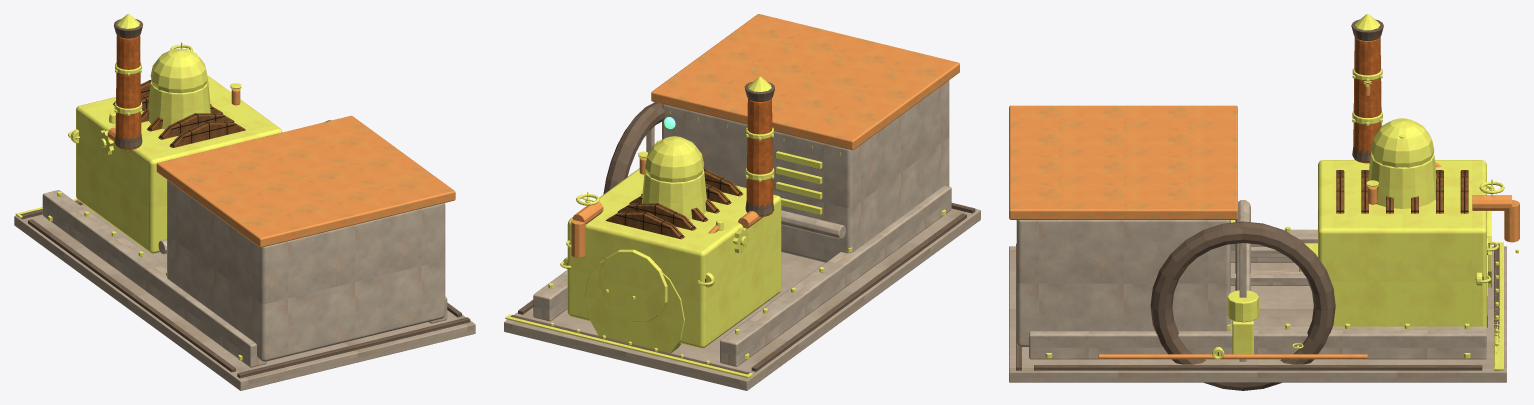
Rendered from ff-steam-engine.glb.
3 renders of one model, left to right at view 1: azimuth 30°, elevation 25°; view 2: azimuth 150°, elevation 25°; view 3: azimuth 270°, elevation 25°, orthographic. The views are drawn at different scales.
Parts seen in each view (by area): view 1: Slide, PadPipe.007, Bolt.013, Pad.007, FrameRail, PadLipN.007, Chimney.002, Lag.001, VentLip.009; view 2: Bolt.013, PadPipe.007, Slide, Pad.007, FrameRail, PadLipN.007, Lag.001, Chimney.002, VentLip.009, Wheel, GaugeBoss.005; view 3: PadPipe.007, Bolt.013, Slide, Pad.007, FrameRail, Wheel, PadLipN.007, VentLip.009, Chimney.002, Lag.001, WheelHub, GaugeBoss.005 (+2 smaller).
Part boxes in pixels (x1,y1,x2,y2): Slide: [167, 180, 445, 361]; PadPipe.007: [107, 89, 455, 247]; Bolt.013: [48, 14, 282, 360]; Pad.007: [14, 204, 475, 390]; FrameRail: [42, 190, 447, 367]; PadLipN.007: [20, 19, 470, 378]; Chimney.002: [115, 35, 141, 149]; Lag.001: [113, 80, 245, 147]; VentLip.009: [68, 48, 241, 139]; Bolt.013: [548, 76, 945, 364]; PadPipe.007: [571, 14, 959, 257]; Slide: [662, 80, 949, 262]; Pad.007: [504, 208, 980, 390]; FrameRail: [533, 185, 951, 366]; PadLipN.007: [510, 81, 975, 374]; Lag.001: [605, 169, 743, 239]; Chimney.002: [746, 98, 773, 216]; VentLip.009: [560, 136, 723, 285]; Wheel: [603, 102, 664, 194]; GaugeBoss.005: [505, 198, 752, 378]; PadPipe.007: [1009, 85, 1519, 359]; Bolt.013: [1045, 14, 1518, 358]; Slide: [1016, 220, 1309, 346]; Pad.007: [1009, 246, 1506, 382]; FrameRail: [1029, 200, 1486, 359]; Wheel: [1150, 221, 1335, 390]; PadLipN.007: [1016, 19, 1499, 370]; VentLip.009: [1212, 83, 1498, 359]; Chimney.002: [1353, 37, 1381, 163]; Lag.001: [1336, 170, 1468, 213]; WheelHub: [1227, 290, 1258, 322]; GaugeBoss.005: [1297, 186, 1503, 370].
Bounding box in the file's own units: 3 × 3.2 × 5.13.
12 materials, 10 textured.
